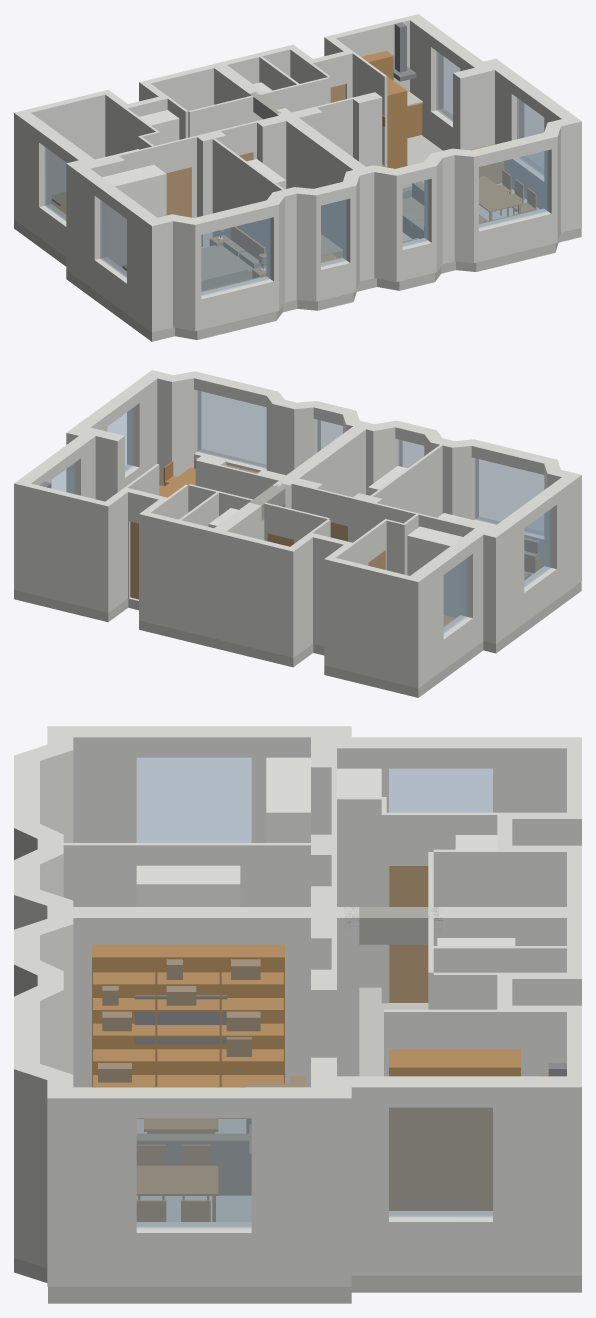
File: V1_ECLIPSE.glb
3 views of the same model, one above another, from view 1: azimuth 30°, elevation 25°; view 2: azimuth 150°, elevation 25°; view 3: azimuth 270°, elevation 25° (orthographic). The views are drawn at different scales.
Visible parts, largest first — view 1: 100039, 100002, 100046, 100021, 100035, 100010, 100004, 100014, 100061, 100057, 100034, 100076 (+57 smaller); view 2: 100039, 100009, 100034, 100029, 100005, 100035, 100002, 100057, 100014, 100004, 100061, 100076 (+46 smaller); view 3: 100014, 100010, 100090, 100004, 100039, 100002, 100089, 100059, 100076, 100058, 100035, 100063 (+45 smaller).
Boxes of the visible parts, x1,y1,x2,y2 form: 100039: (66, 160, 156, 331); 100002: (14, 135, 581, 341); 100046: (194, 200, 278, 330); 100021: (471, 132, 557, 262); 100035: (14, 112, 95, 256); 100010: (410, 14, 486, 150); 100004: (277, 108, 365, 249); 100014: (484, 58, 581, 209); 100061: (201, 218, 270, 295); 100057: (479, 150, 547, 227); 100034: (15, 90, 107, 195); 100076: (212, 138, 284, 265); 100039: (483, 475, 581, 643); 100009: (14, 483, 108, 612); 100034: (324, 558, 418, 688); 100029: (216, 531, 293, 657); 100005: (139, 512, 217, 638); 100035: (410, 528, 487, 688); 100002: (14, 573, 581, 697); 100057: (197, 391, 266, 468); 100014: (66, 370, 157, 492); 100004: (273, 425, 365, 508); 100061: (475, 458, 544, 535); 100076: (370, 445, 442, 517); 100014: (47, 1087, 351, 1286); 100010: (337, 1076, 581, 1275); 100090: (92, 944, 284, 1118); 100004: (61, 907, 359, 1087); 100039: (48, 726, 351, 842); 100002: (14, 987, 581, 1303); 100089: (389, 1049, 520, 1210); 100059: (136, 1118, 251, 1227); 100076: (63, 843, 310, 906); 100058: (389, 1107, 492, 1217); 100035: (337, 737, 581, 812); 100063: (136, 757, 251, 842).
Size of the model in its own units: 11.85 by 3.05 by 7.65.
